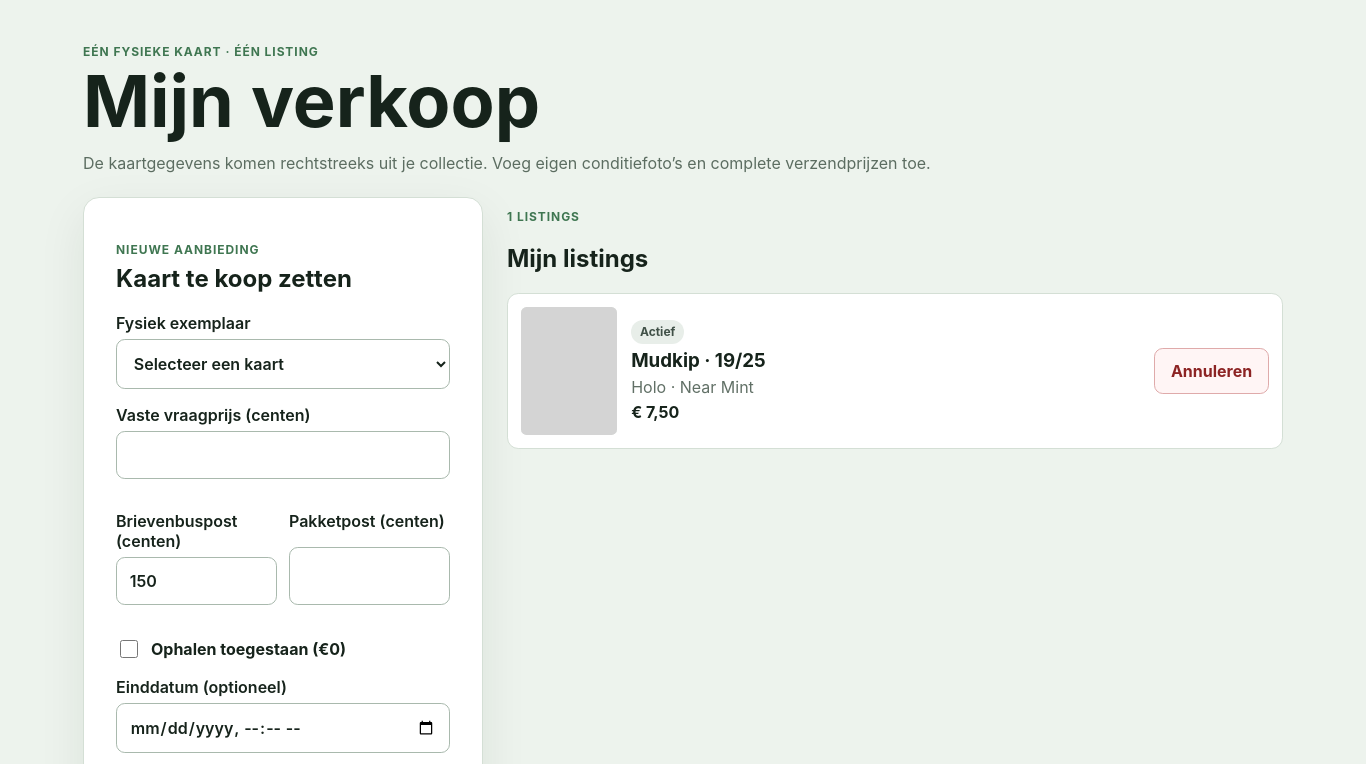
Test case: MyListingsPage › cancels an active seller listing and removes its lifecycle action
Click the button "Annuleren": (1212, 371) x1=1154 y1=348 x2=1269 y2=394
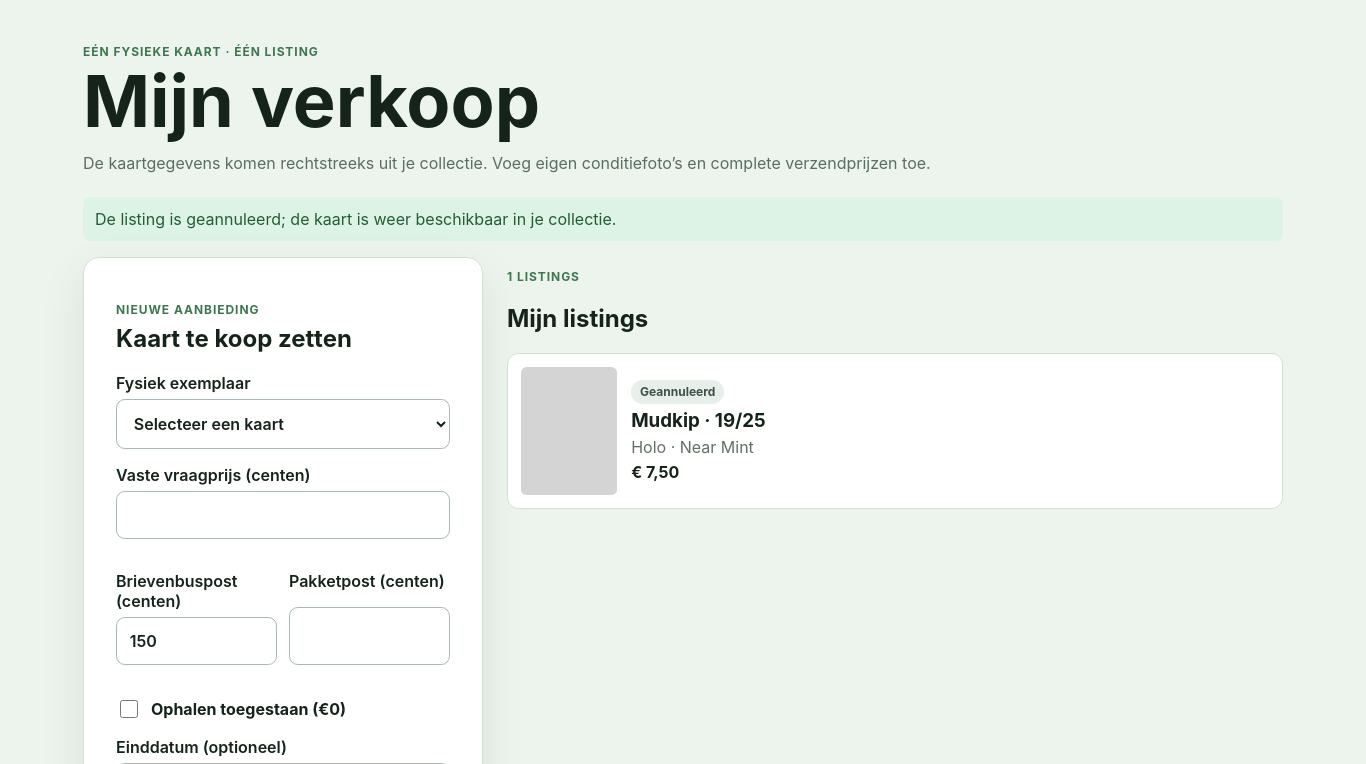
Check: the text "De listing is geannuleerd; de kaart is weer beschikbaar in je collectie." is shown, box x1=83 y1=197 x2=1283 y2=241
Check: the text "geannuleerd" is shown, box x1=95 y1=209 x2=616 y2=229
